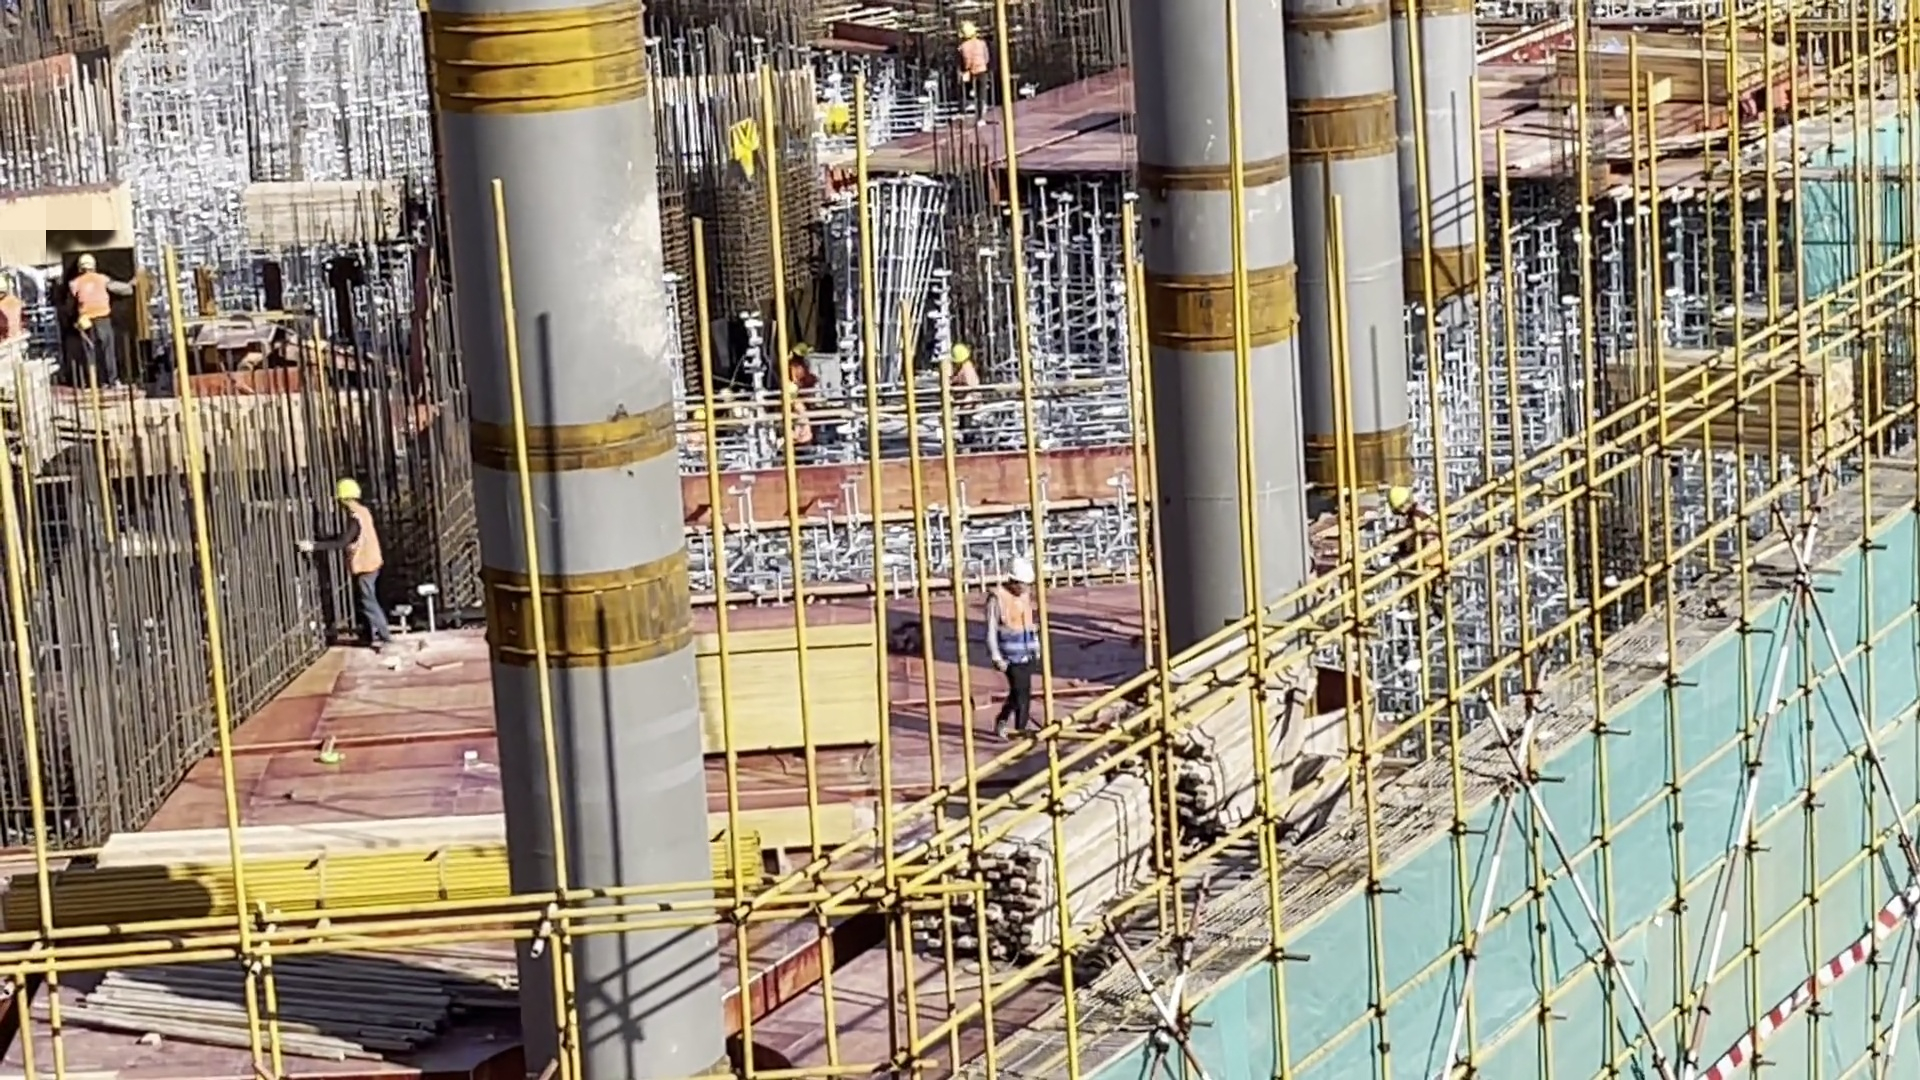helmet: (316, 474, 363, 513), (1003, 551, 1040, 590), (1391, 483, 1414, 514), (76, 249, 98, 273), (958, 20, 981, 38), (948, 337, 967, 359), (789, 340, 804, 359)
hook: (711, 105, 780, 192)
person: (975, 540, 1046, 749), (307, 478, 390, 650), (57, 246, 140, 389), (939, 336, 997, 454), (766, 379, 824, 474), (950, 14, 999, 120)
vest: (332, 505, 384, 570), (988, 589, 1034, 659), (65, 274, 116, 328), (960, 41, 987, 75)
wood: (893, 731, 1167, 980), (75, 922, 497, 1076), (1104, 611, 1378, 826)
